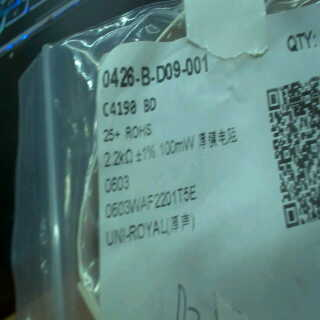2.2kR: (100, 145, 134, 169)
